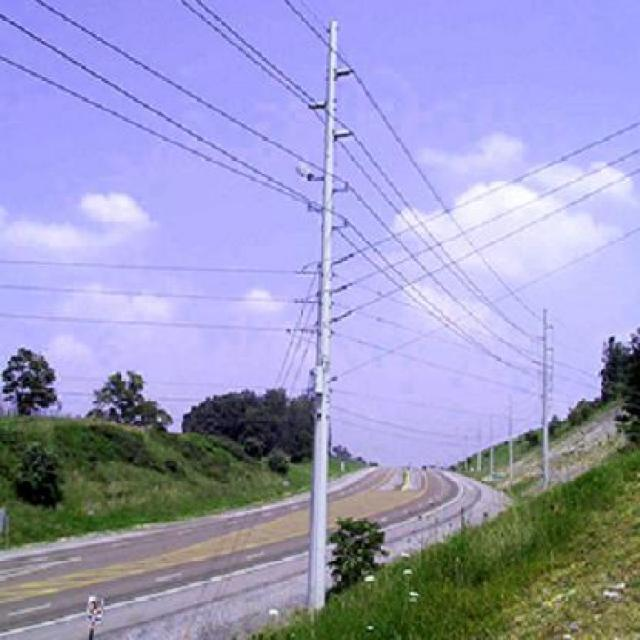pole: (272, 6, 365, 600), (525, 302, 569, 483)
